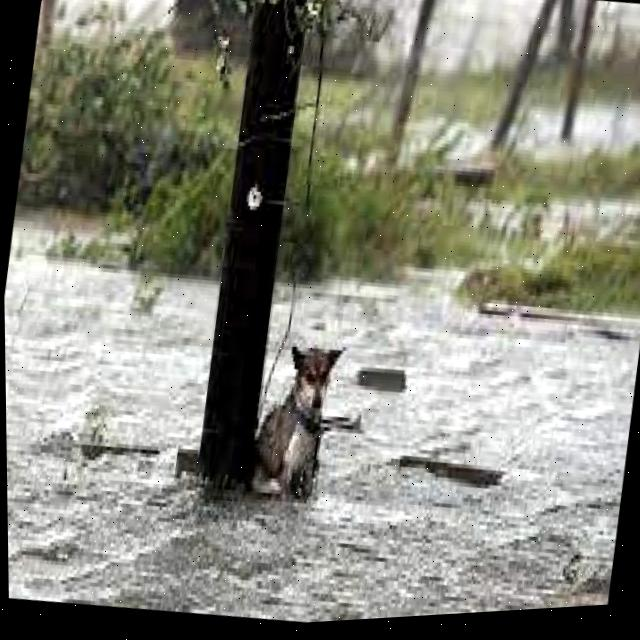dog: (255, 329, 352, 506)
